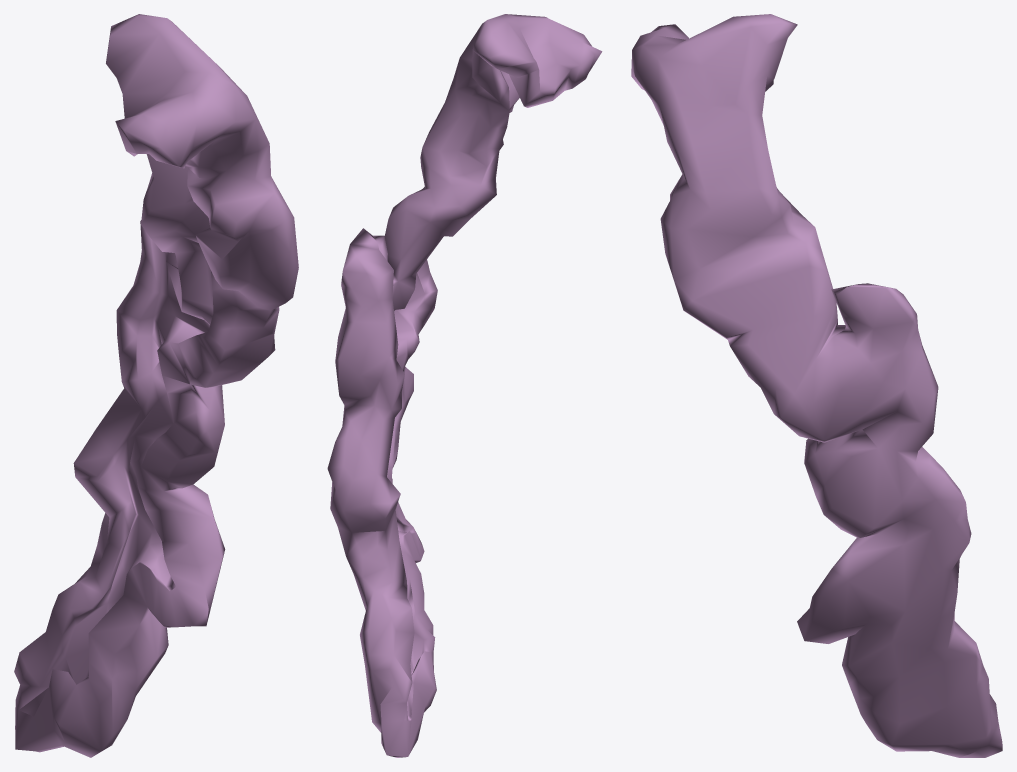
3 renders of one model, left to right at view 1: azimuth 30°, elevation 25°; view 2: azimuth 150°, elevation 25°; view 3: azimuth 270°, elevation 25°, orthographic. The views are drawn at different scales.
Parts seen in each view (by area): view 1: 左侧颞中回; view 2: 左侧颞中回; view 3: 左侧颞中回.
Part boxes in pixels (bbox=[...]): 左侧颞中回: bbox=[14, 14, 298, 757]; 左侧颞中回: bbox=[327, 14, 602, 757]; 左侧颞中回: bbox=[631, 14, 1002, 757].
Size of the model in its own units: 0.0414 by 0.1479 by 0.0667.
